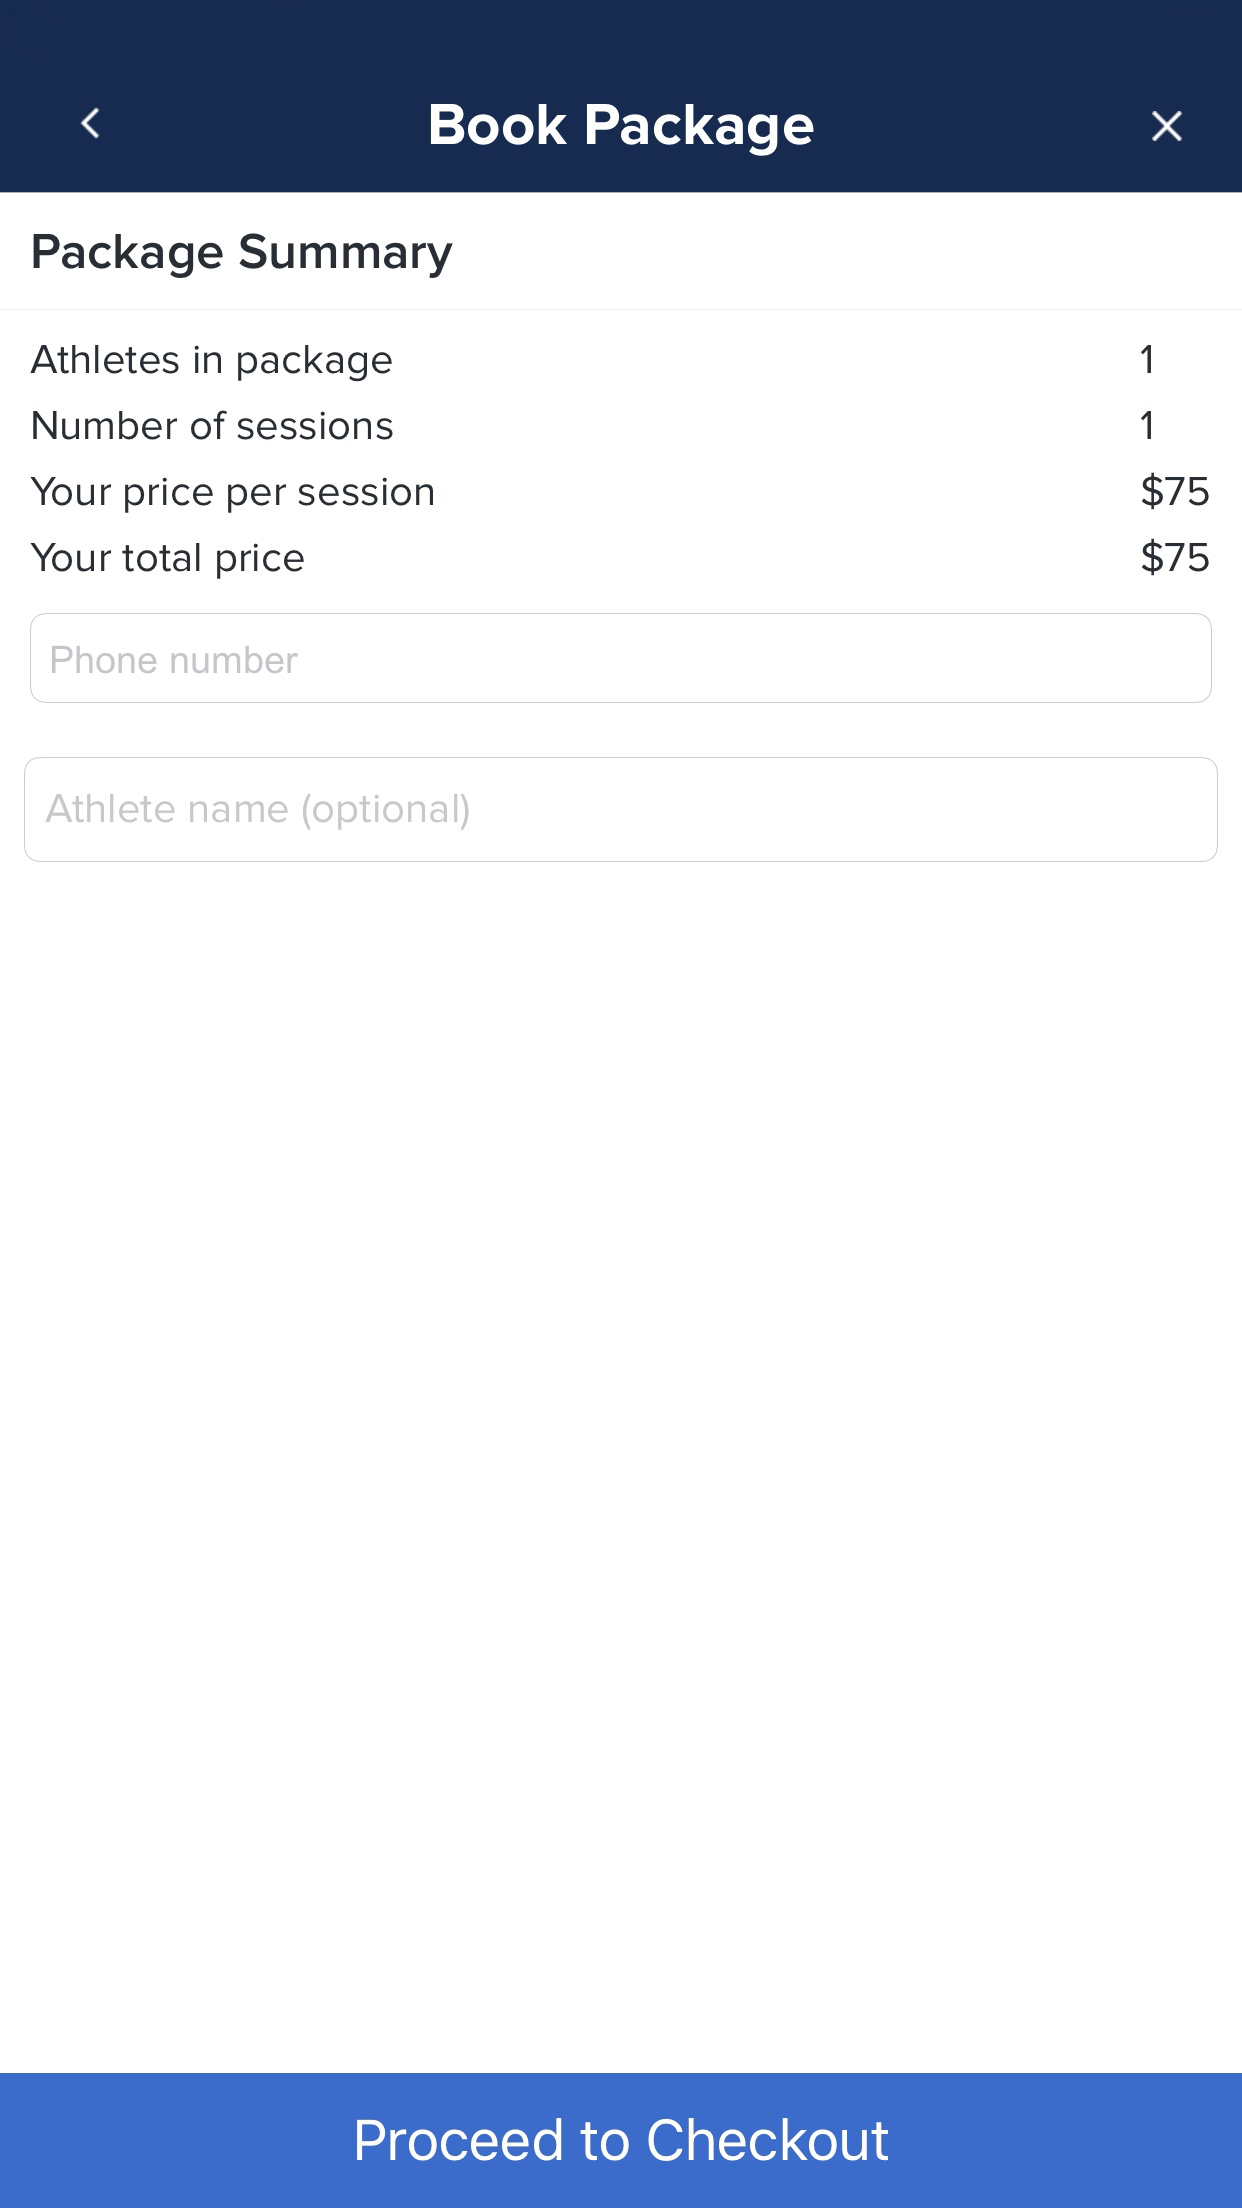EditText: (24, 757, 1219, 863), (30, 613, 1213, 704)
Icon: (1151, 111, 1183, 143), (80, 108, 102, 140)
Text: (431, 105, 814, 158), (33, 234, 455, 281), (45, 793, 472, 833), (30, 476, 435, 514), (30, 344, 393, 384), (33, 409, 394, 441), (30, 543, 305, 581), (52, 646, 300, 675), (1140, 472, 1209, 511), (1140, 538, 1209, 576), (1140, 346, 1153, 375), (1140, 411, 1153, 440)
TextButton: (2, 2073, 1242, 2208)
